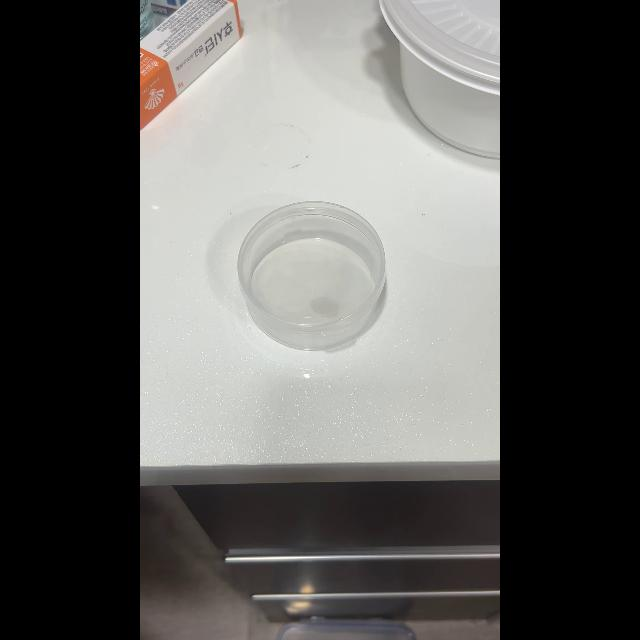clean: (236, 196, 397, 350)
